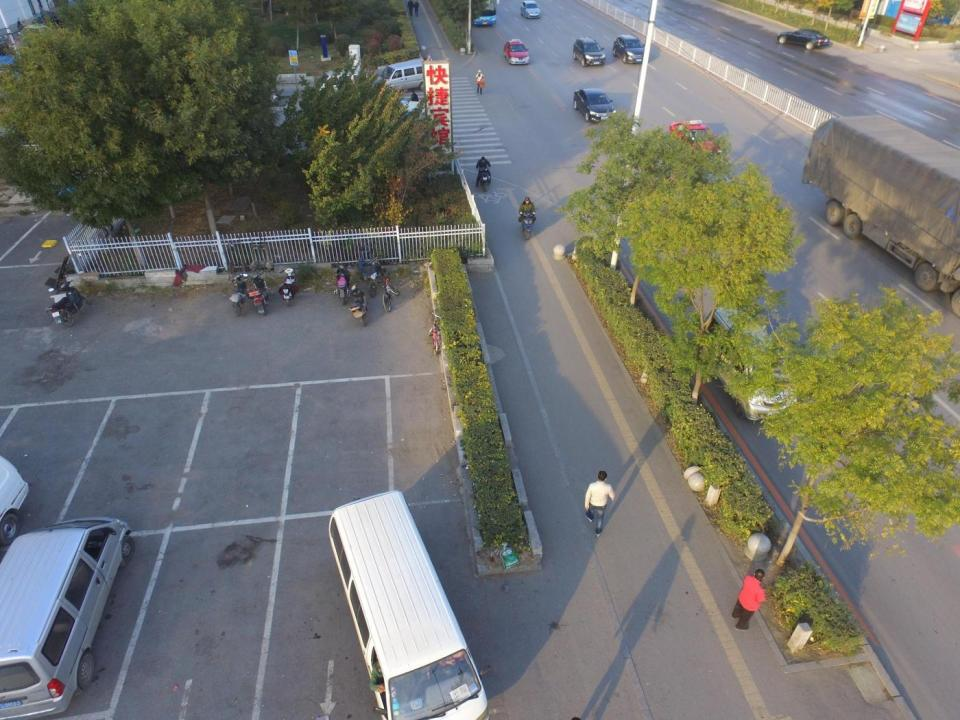bus: (469, 0, 495, 25)
car: (668, 117, 722, 159), (574, 88, 616, 124), (778, 27, 830, 50), (571, 36, 604, 66), (614, 35, 646, 64), (502, 38, 528, 64), (521, 1, 543, 18)
truck: (800, 118, 960, 323)
van: (327, 490, 492, 720), (0, 517, 131, 719), (701, 294, 797, 421), (372, 58, 431, 90)
